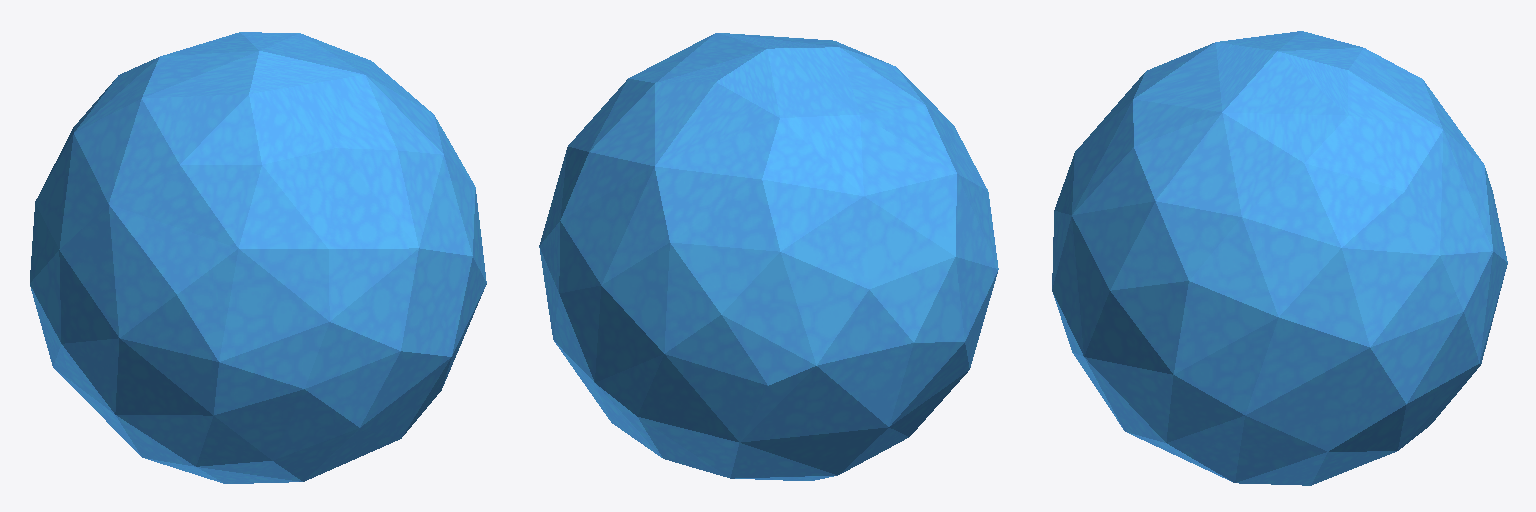
3 views of the same model, side by side, from view 1: azimuth 30°, elevation 25°; view 2: azimuth 150°, elevation 25°; view 3: azimuth 270°, elevation 25° (orthographic).
Bounding box in the file's own units: 1.99 × 2 × 2.01.
1 materials, 1 textured.